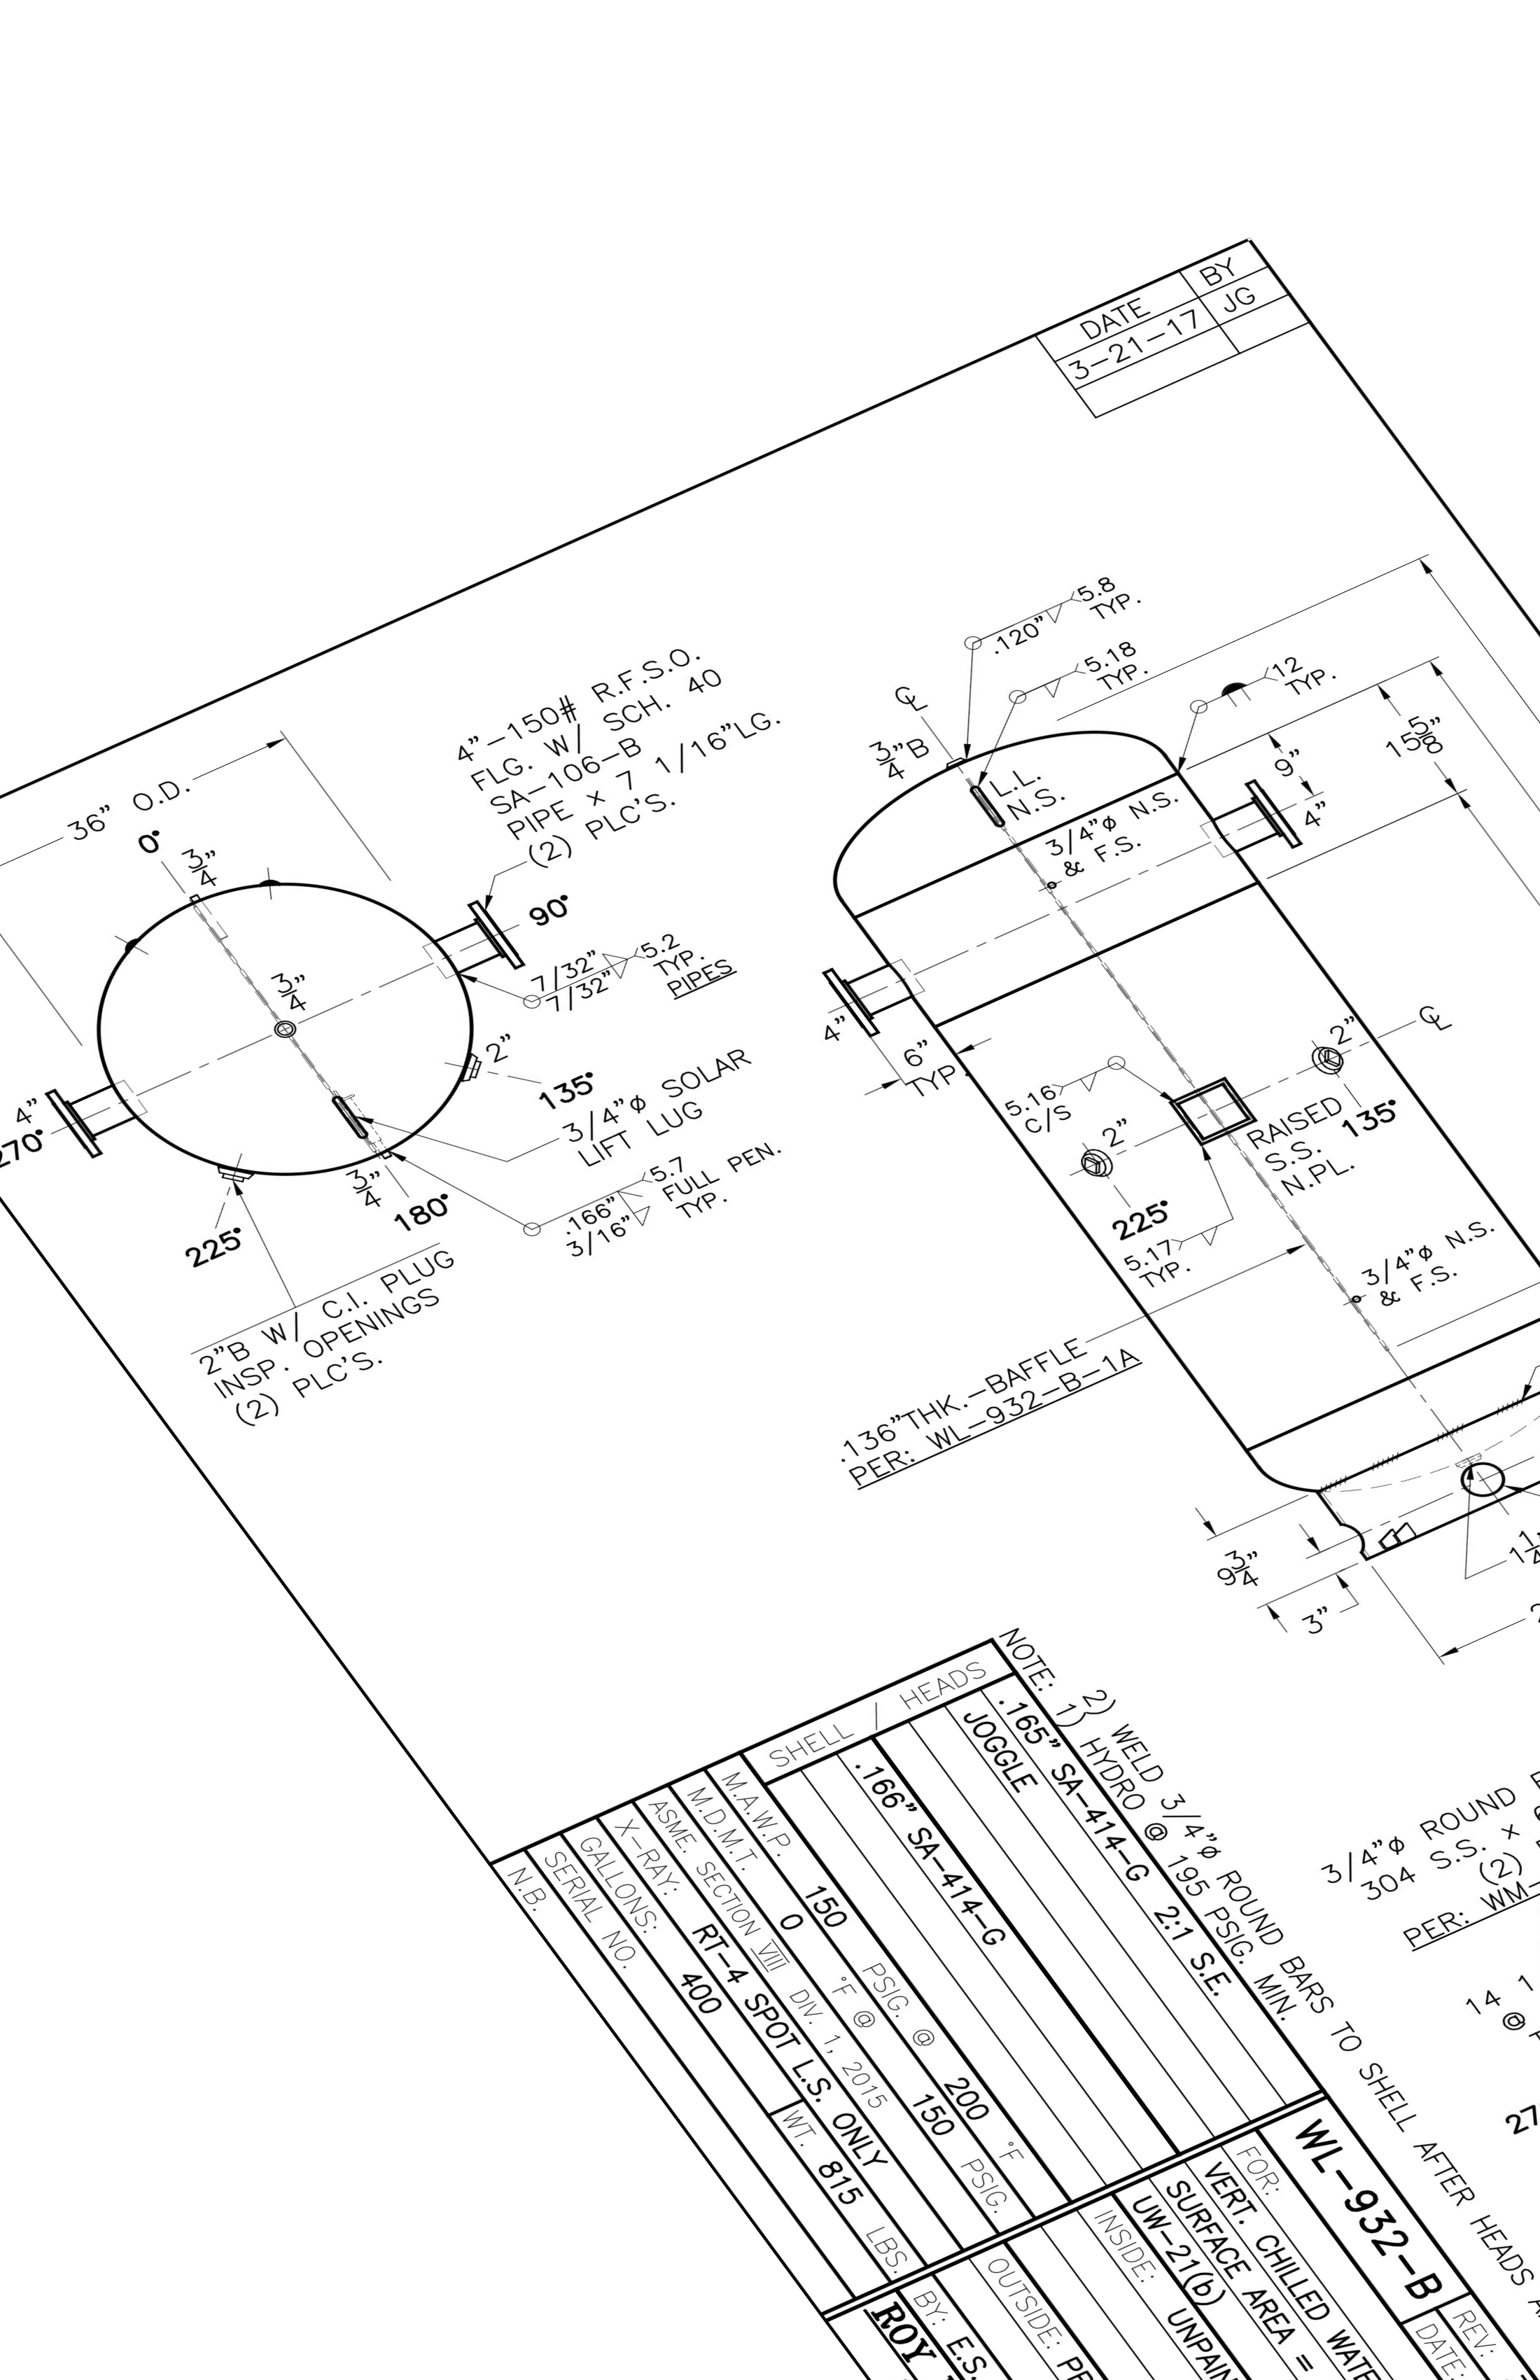Nozzle: (737, 951, 950, 1053), (1171, 762, 1339, 881), (33, 1062, 165, 1178), (414, 902, 550, 991)
